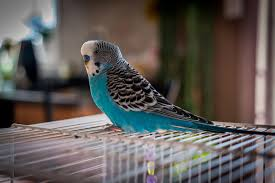budgie: (81, 40, 273, 137)
